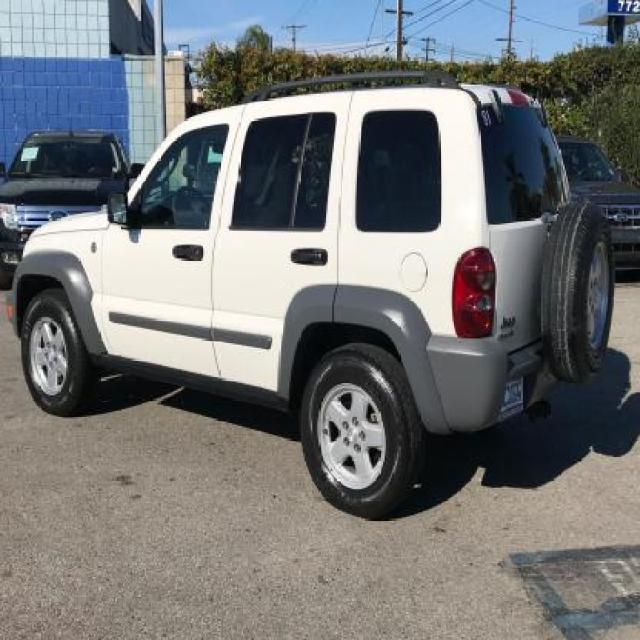Jeep: (9, 79, 613, 512)
